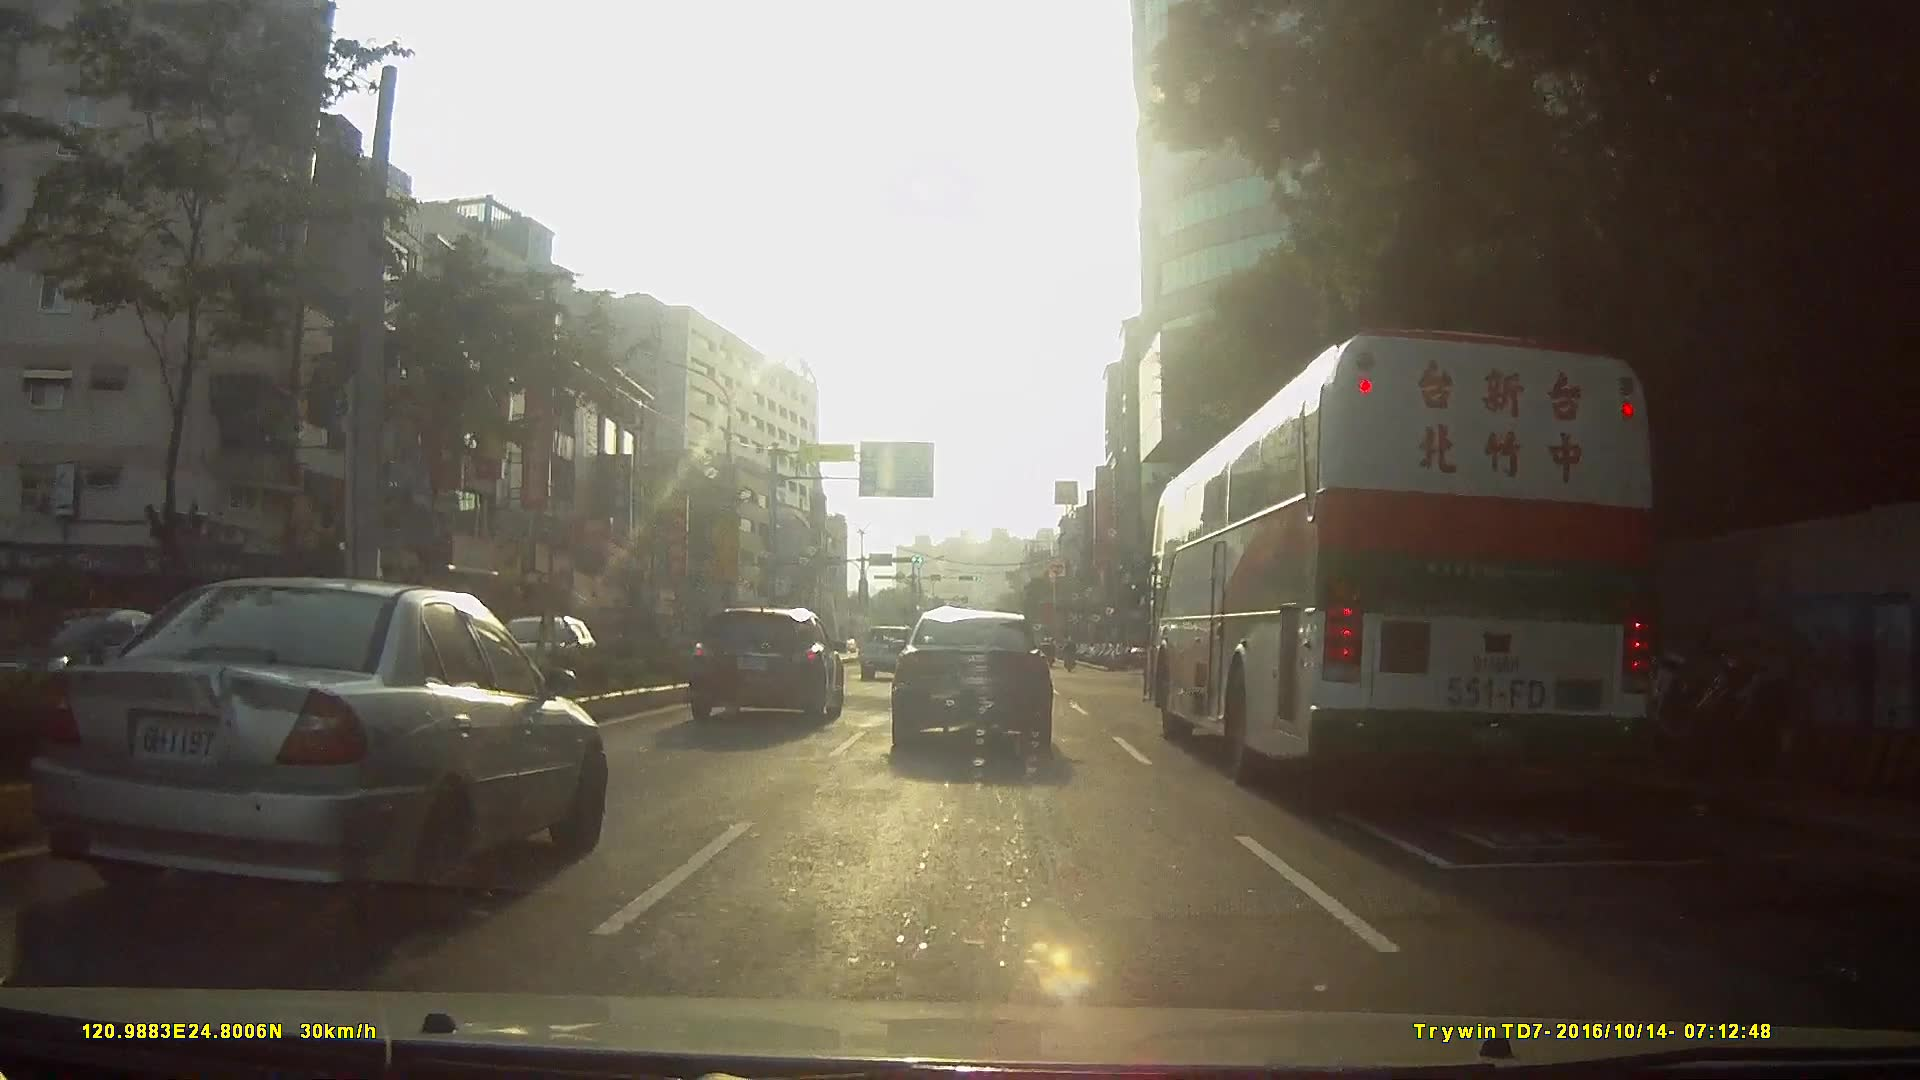vehicle: (1134, 295, 1710, 806), (18, 572, 607, 931), (887, 605, 1054, 753), (17, 607, 206, 729), (687, 607, 844, 727), (858, 625, 916, 683)
